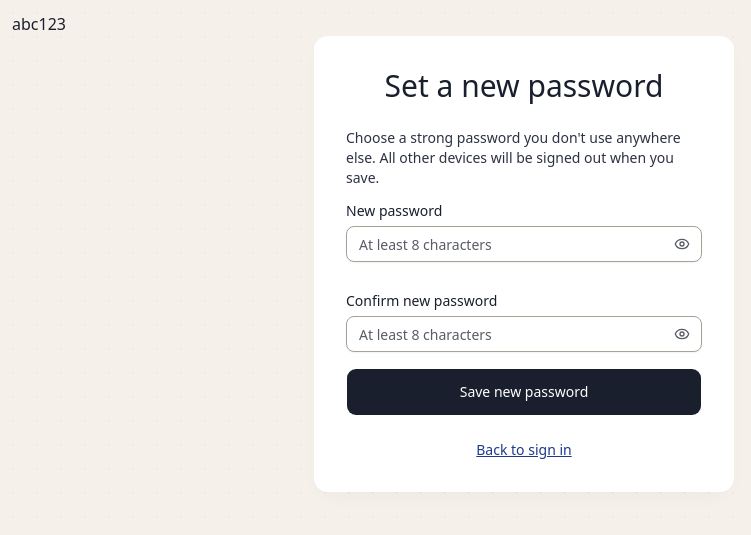
it: ResetPasswordPage (Story 1-9b AC5 / AC6) › PasswordStrengthBar updates as user types
Type "a" into the password field with test id "reset-new-password" at (524, 244), box [346,226,702,262]
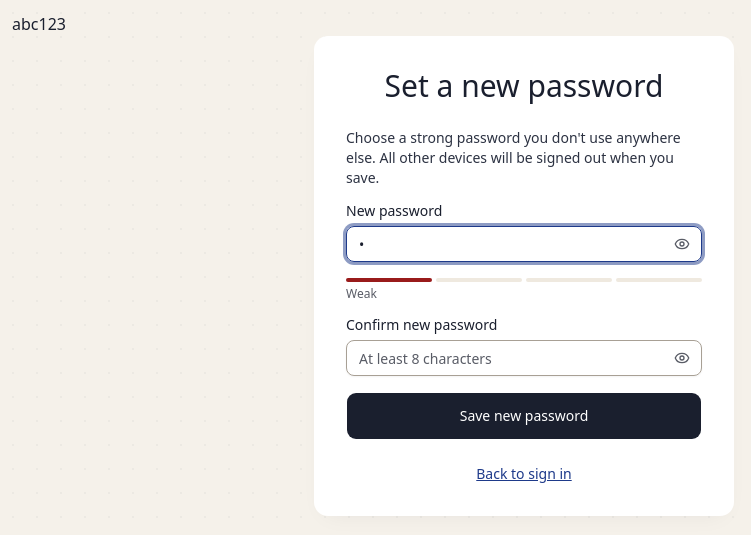
Check: the message with test id "password-strength-announcement" reads "Weak", box [346,285,377,302]
Type "bcDEF123!XYZ" into the password field with test id "reset-new-password" at (524, 244), box [346,226,702,262]
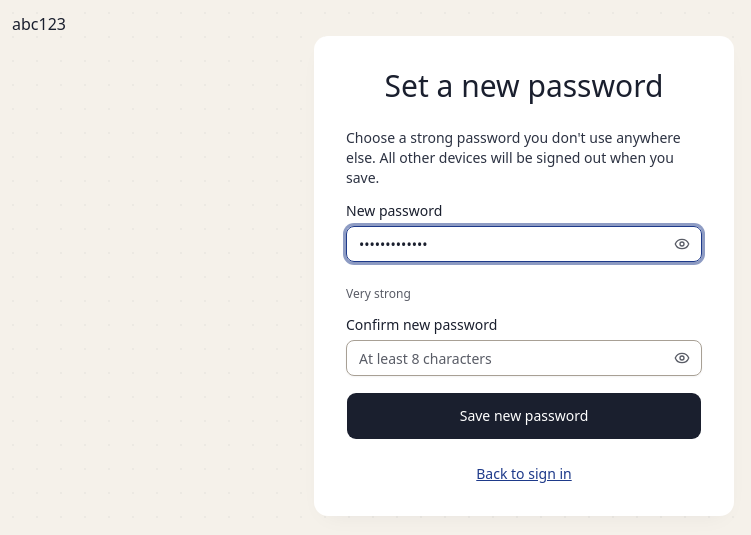
Check: the message with test id "password-strength-announcement" reads "Very strong", box [346,285,411,302]
